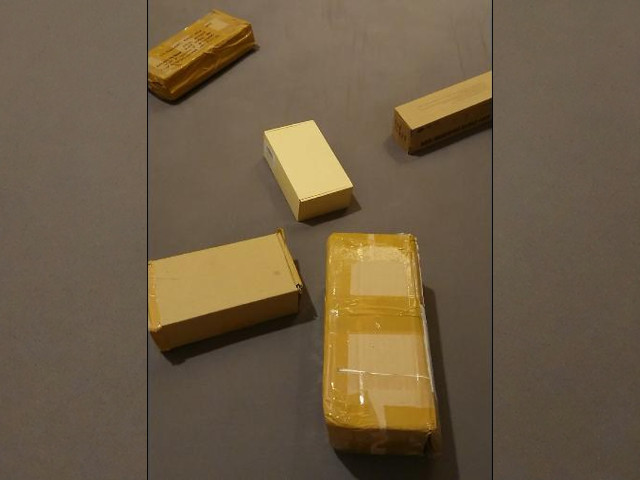cardboard: (324, 234, 435, 456), (148, 230, 304, 353), (149, 11, 255, 101), (263, 121, 353, 220), (395, 70, 491, 156)
